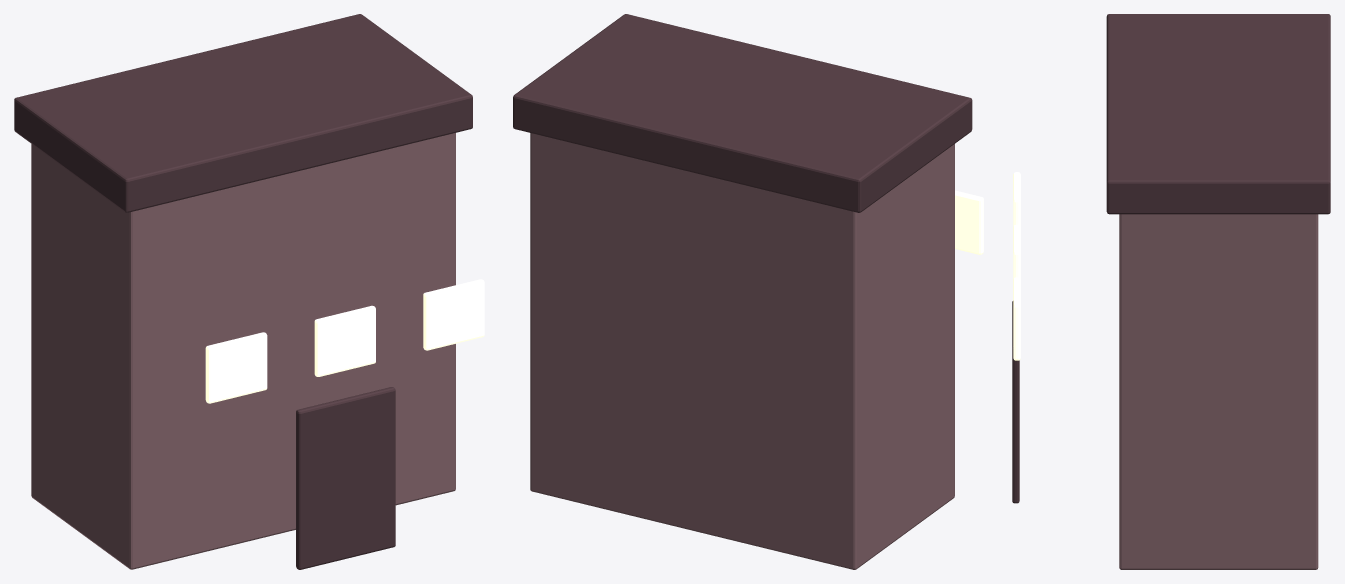
Rendered from SM_Schlachthof_Hall.fbx.
3 views of the same model, side by side, from view 1: azimuth 30°, elevation 25°; view 2: azimuth 150°, elevation 25°; view 3: azimuth 270°, elevation 25° (orthographic).
Parts seen in each view (by area): view 1: SM_Schlachthof_Hall; view 2: SM_Schlachthof_Hall; view 3: SM_Schlachthof_Hall.
Boxes of the visible parts, <box> form: SM_Schlachthof_Hall: <box>14,14,484,569</box>; SM_Schlachthof_Hall: <box>513,14,983,569</box>; SM_Schlachthof_Hall: <box>1012,14,1330,569</box>.
Bounding box in the file's own units: 3.2 × 3.5 × 2.56.
